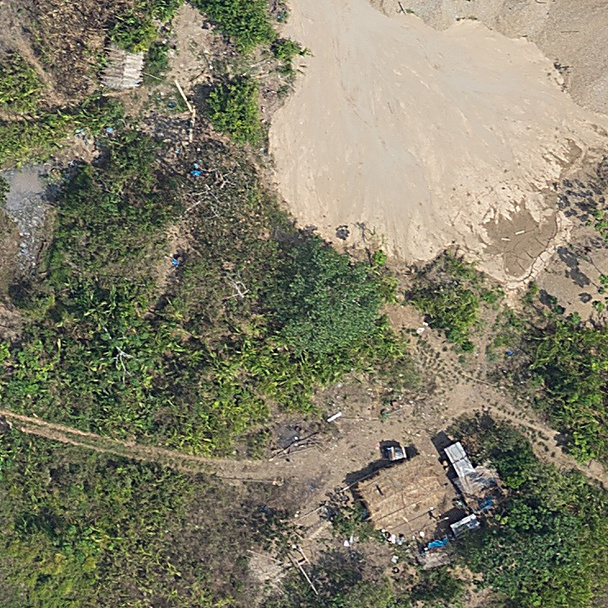casa: (348, 431, 508, 556)
